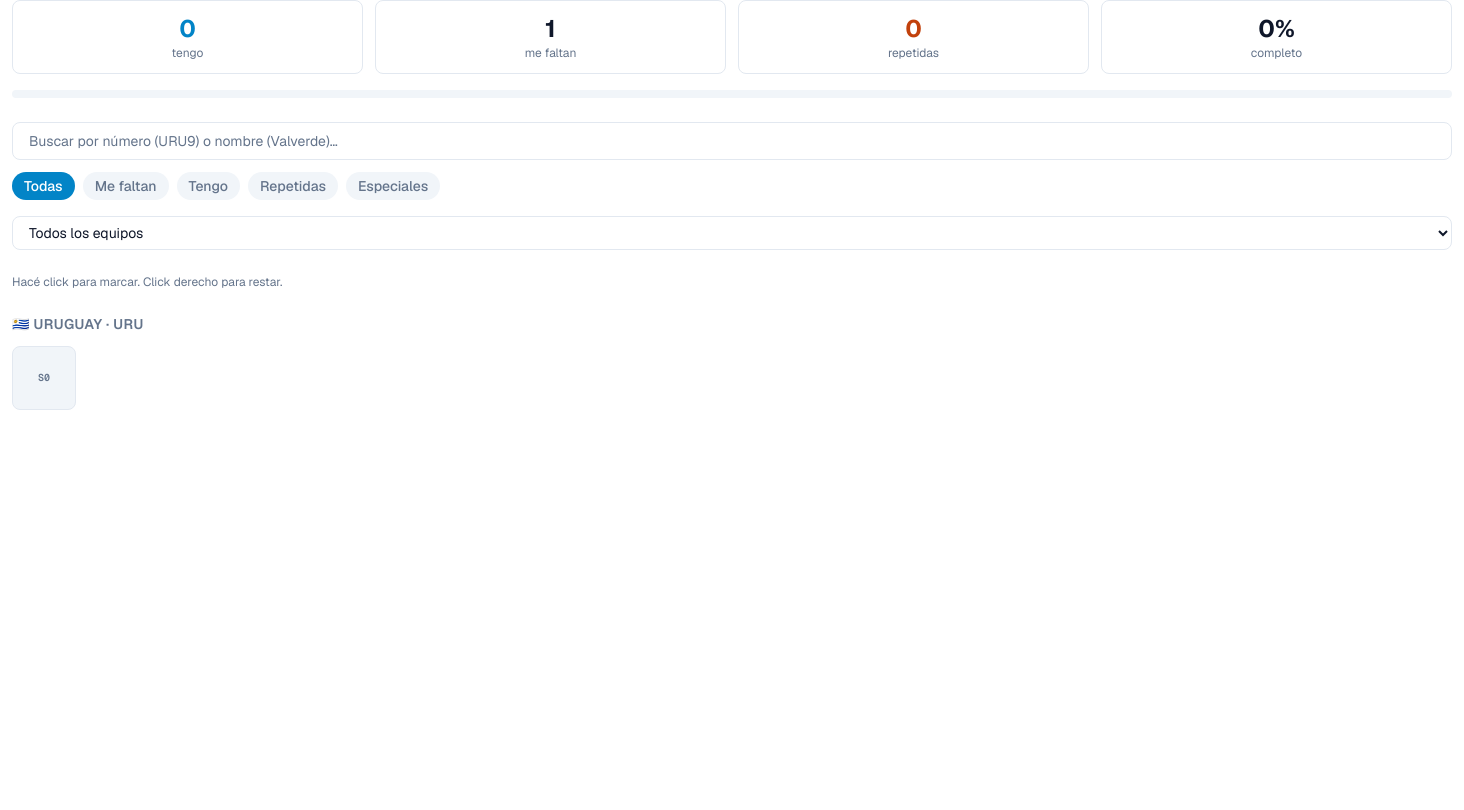
Test case: AlbumClient — guardado en bulk › error persistente con botón Reintentar que reenvía (H6/M6)
Click the button "S0". click: click(44, 378)
box: left=12, top=346, right=76, bottom=410
Wait 900 ms
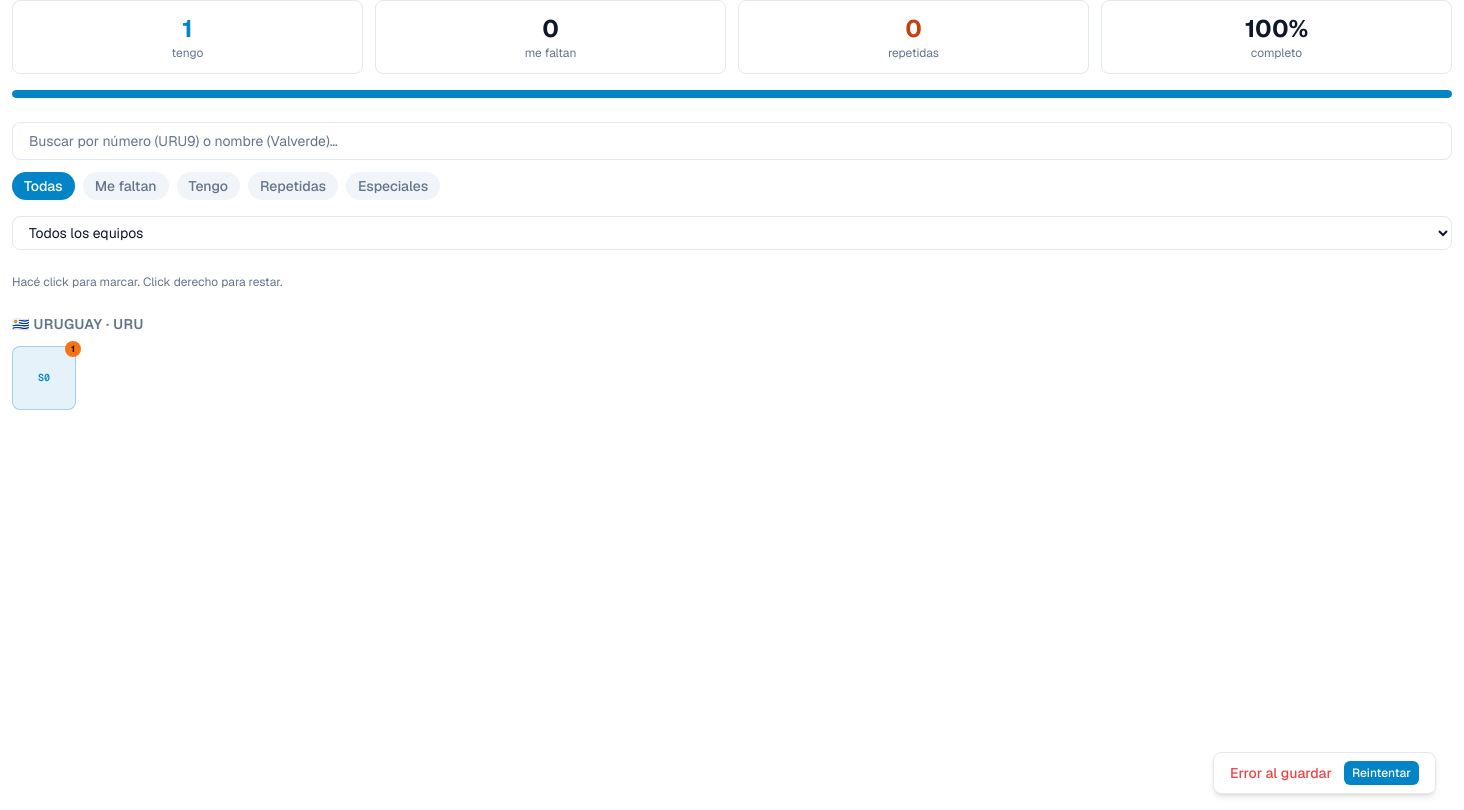
Check: the text "Error al guardar" is shown, box left=1230, top=763, right=1332, bottom=783
Click the button "Reintentar". click: click(1382, 773)
box: left=1344, top=761, right=1419, bottom=785
Wait 10 ms
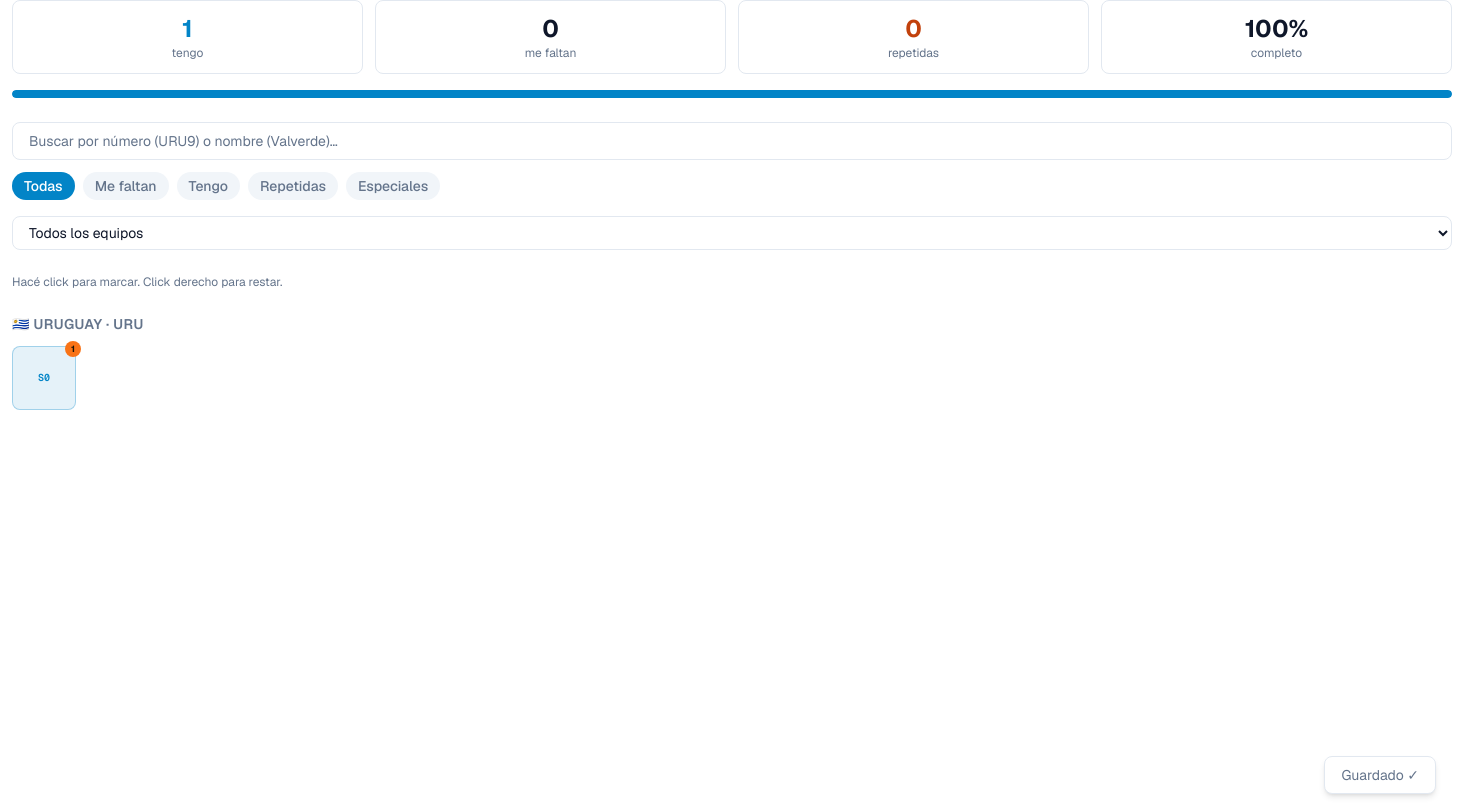
Check: the text "Error al guardar" is gone
